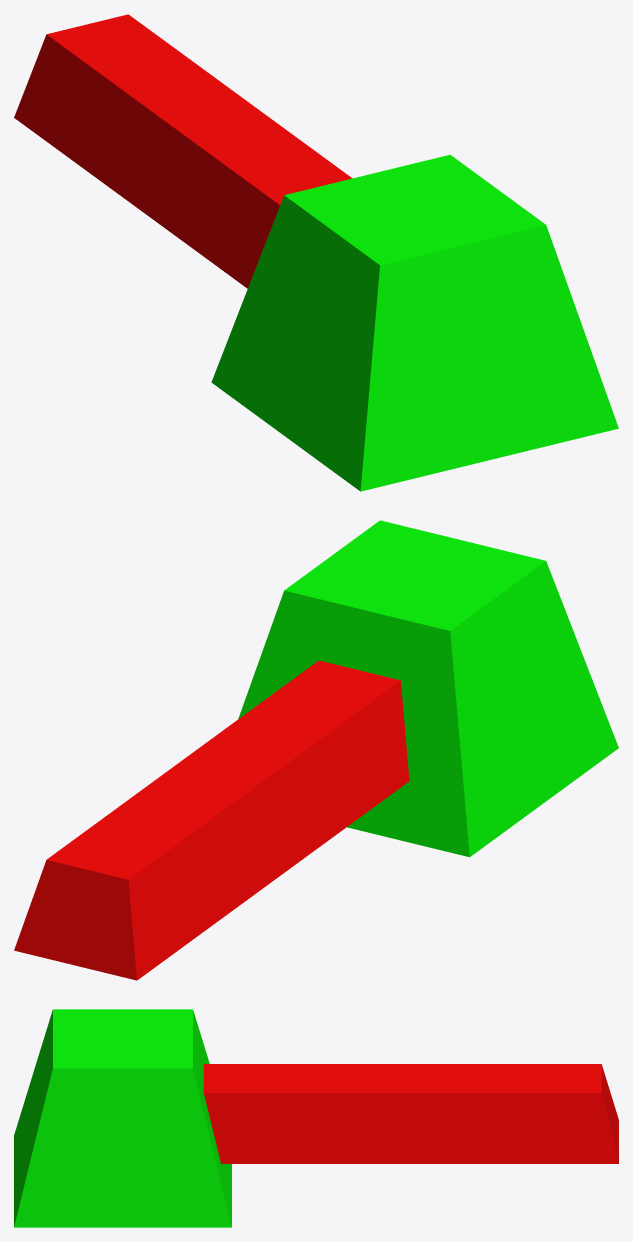
The model's file is Cannon_0.fbx.
3 renders of one model, top to bottom at view 1: azimuth 30°, elevation 25°; view 2: azimuth 150°, elevation 25°; view 3: azimuth 270°, elevation 25°, orthographic. The views are drawn at different scales.
Visible parts, largest first — view 1: Cube.008; view 2: Cube.008; view 3: Cube.008.
Boxes of the visible parts, x1=… form: Cube.008: x1=14, y1=14, x2=618, y2=491; Cube.008: x1=14, y1=520, x2=618, y2=980; Cube.008: x1=14, y1=1009, x2=618, y2=1227.
Bounding box in the file's own units: 0.4506 × 0.3257 × 1.25.
